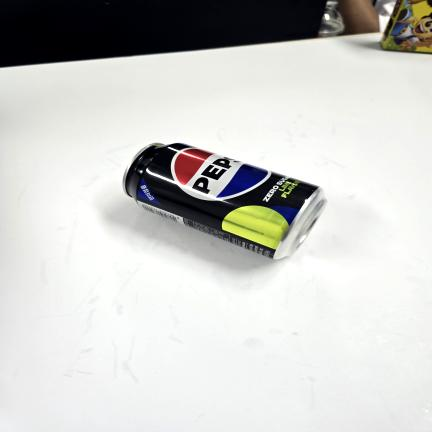can_pepsi_zero: (123, 143, 327, 259)
